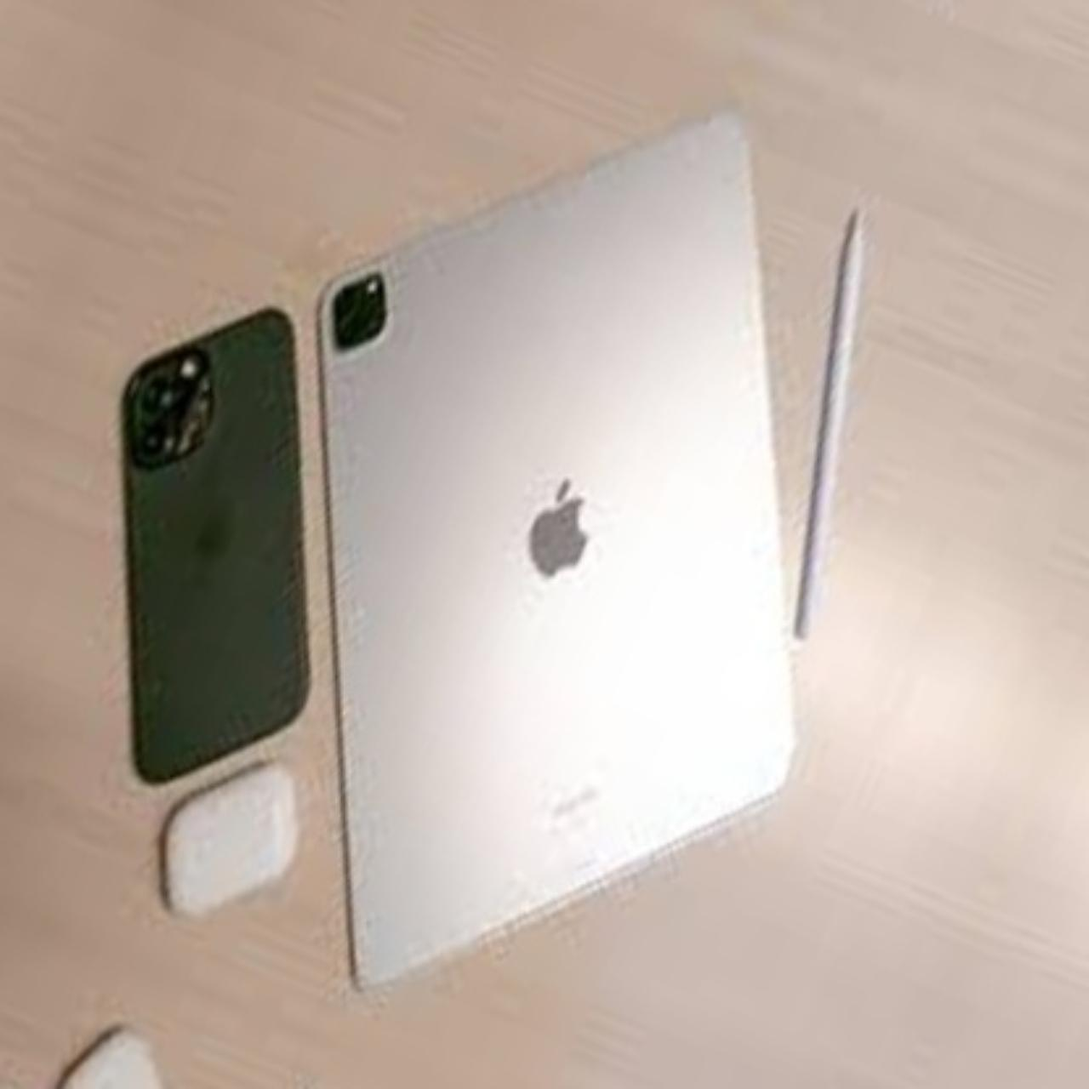Tablet_PC: (74, 0, 1045, 1089)
